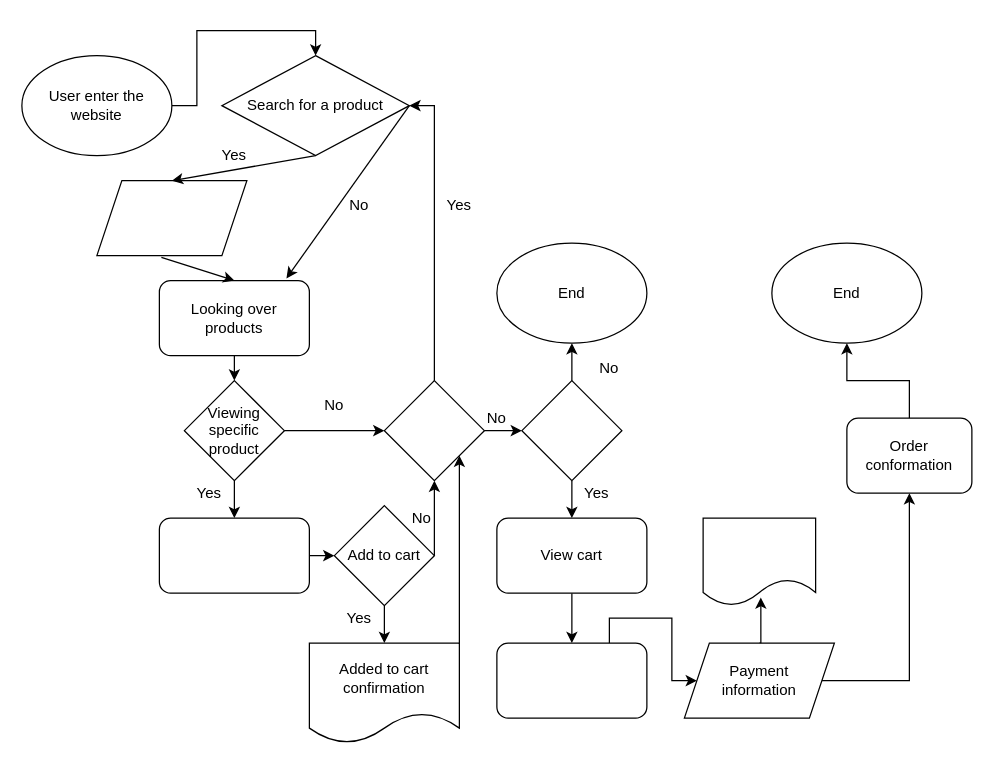
The diagram is 994 pixels wide and 765 high, and some of its shapes have lost their labels. The box of each missing label's shape, as (x1, y1, x2, y2) in pixels:
Check out: (521, 379, 622, 481)
Continue shopping: (383, 379, 484, 481)
Input of search: (96, 179, 247, 256)
Receive email: (702, 517, 816, 606)
View payment: (496, 642, 647, 718)
Webpage of the product: (158, 517, 309, 593)
